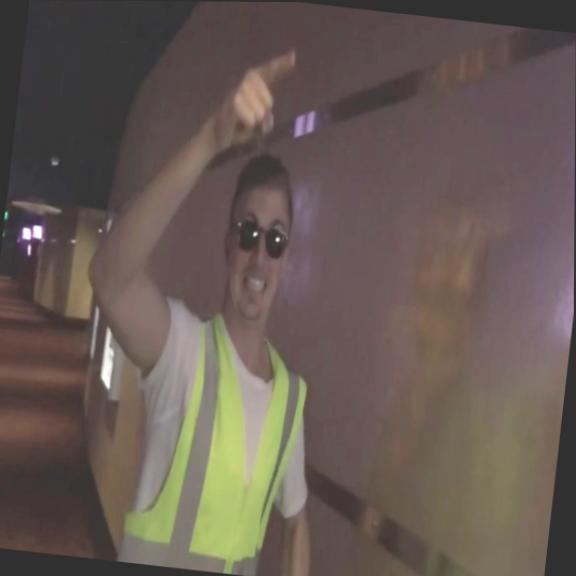safety_vest: (116, 299, 313, 576)
